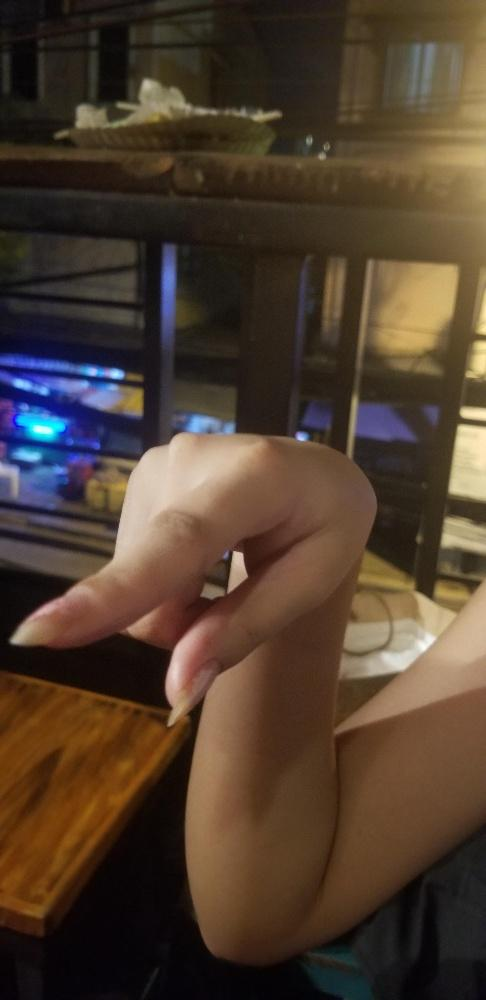z: (4, 420, 379, 725)
